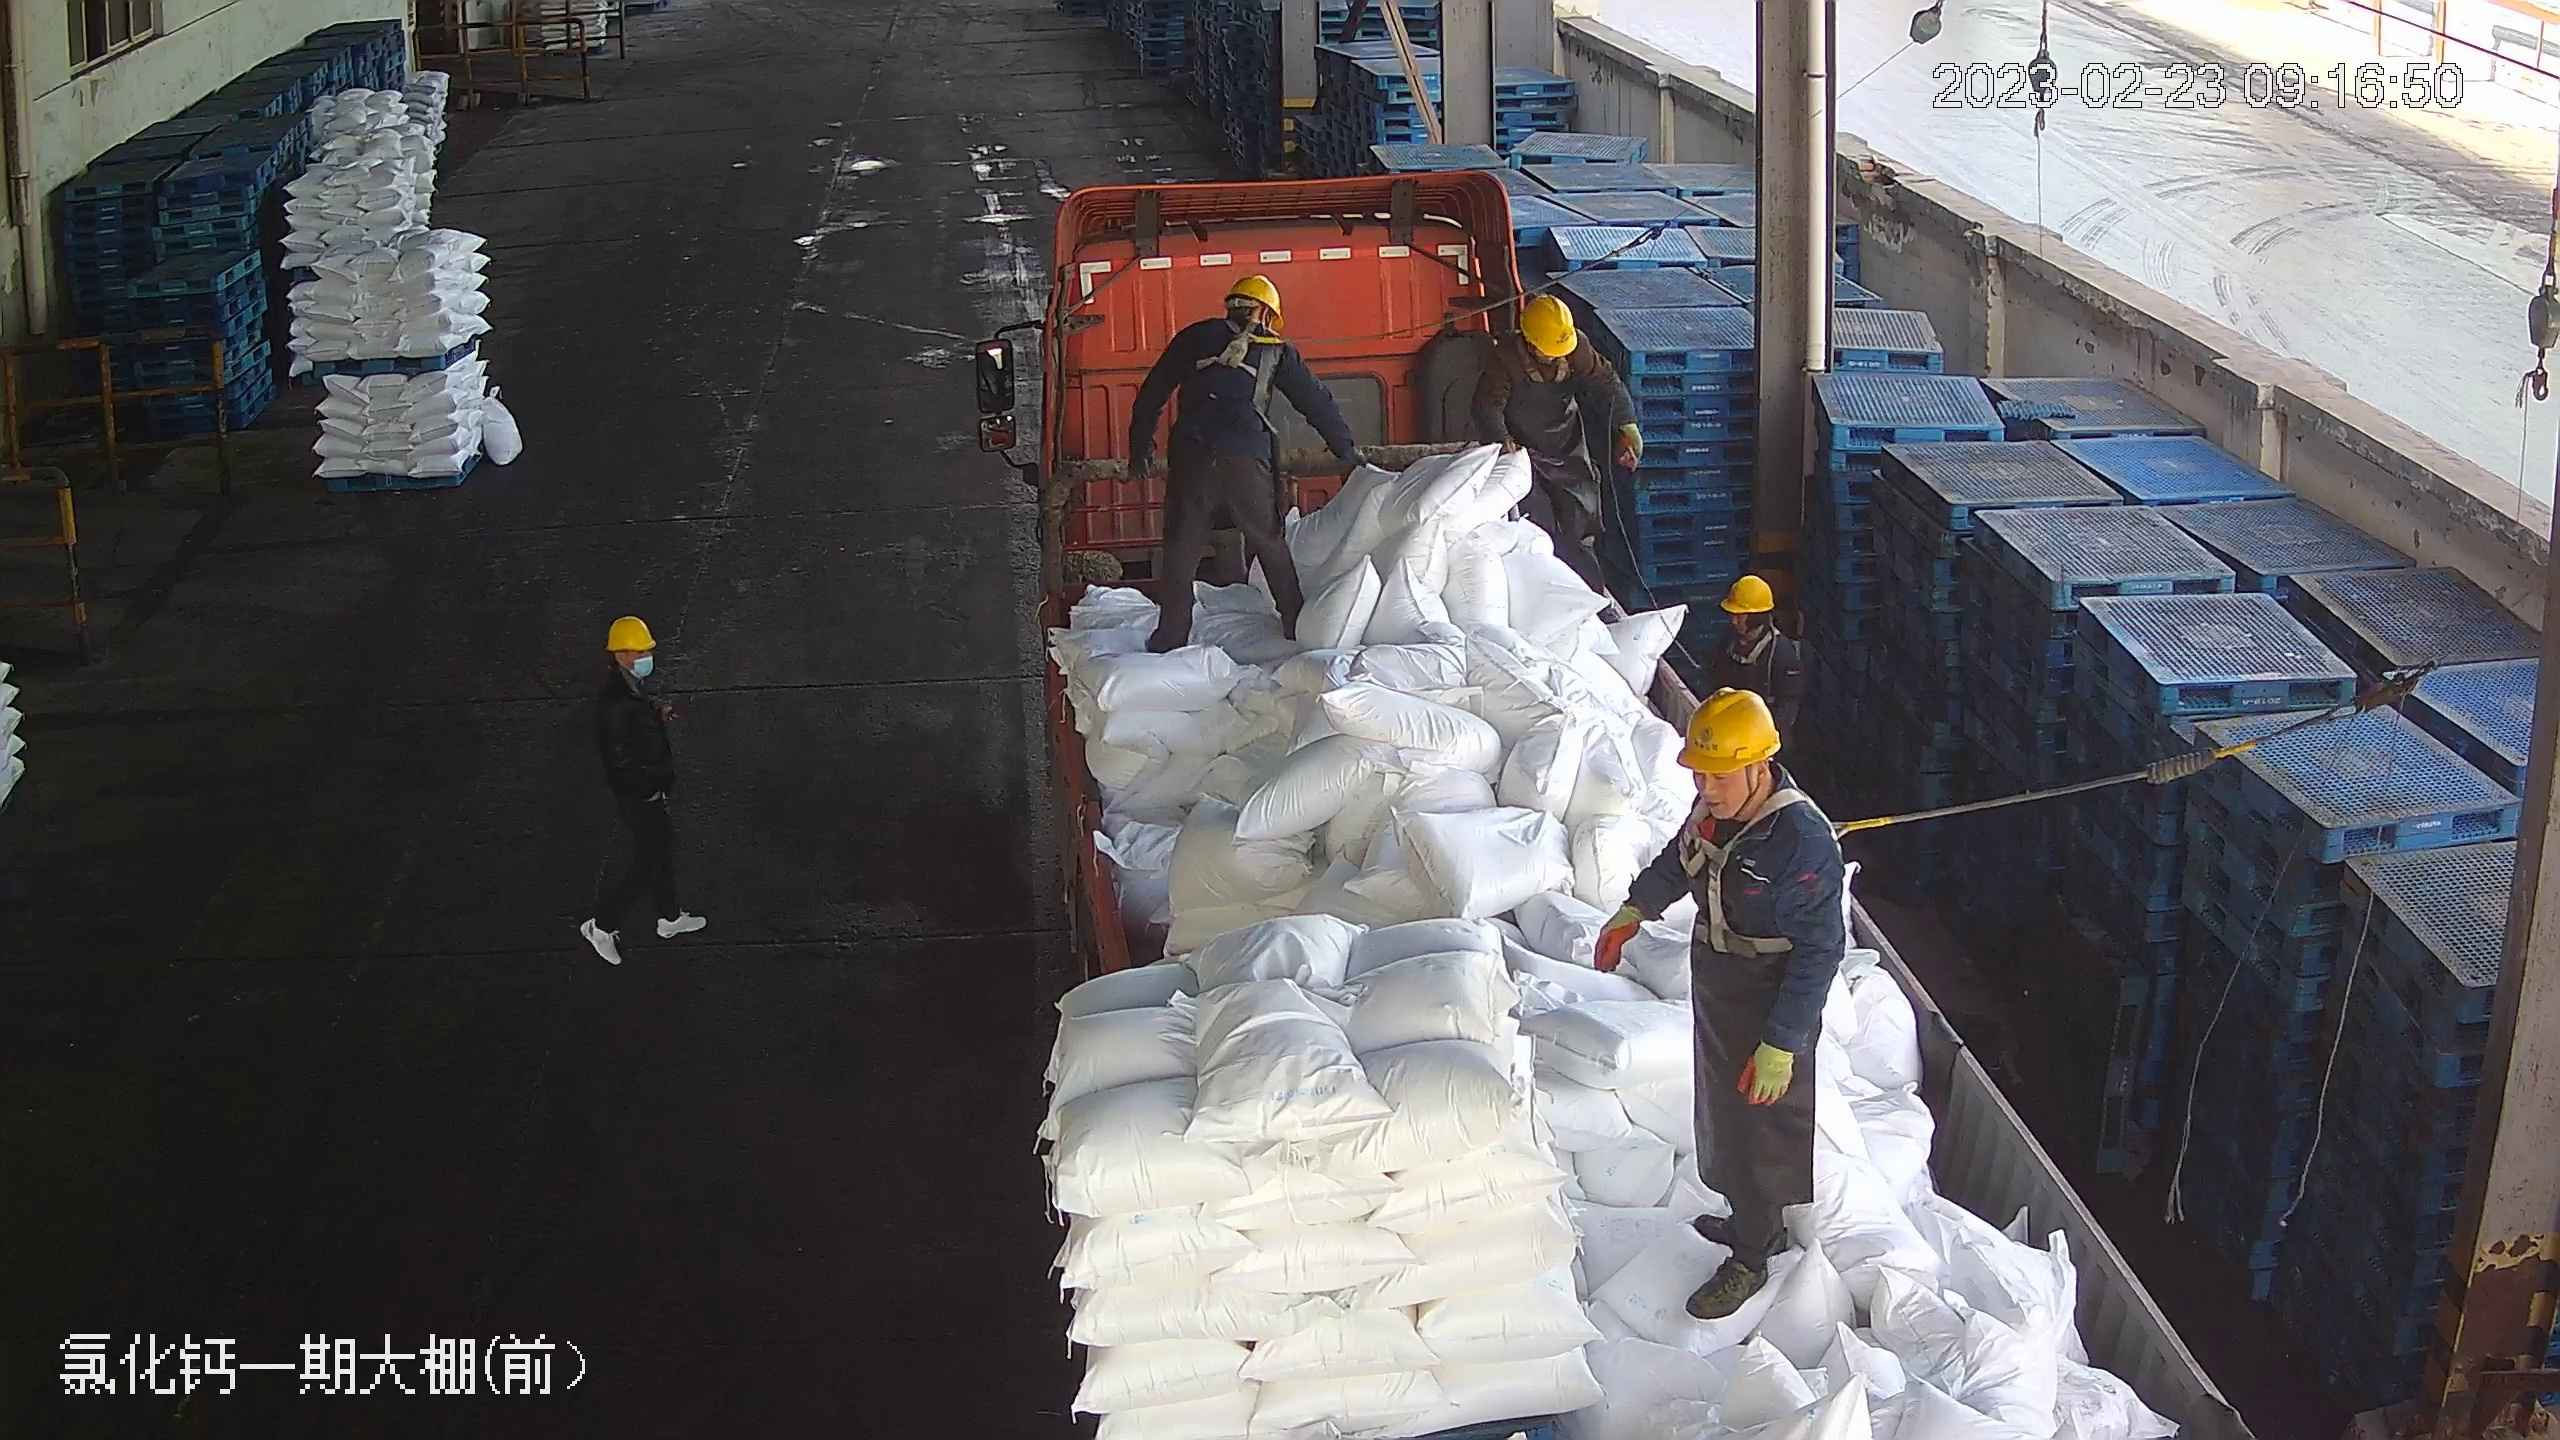belt: (1674, 809, 1807, 945), (1194, 319, 1290, 399), (1510, 339, 1572, 383), (1728, 624, 1785, 667)
head: (1659, 686, 1836, 883), (1174, 270, 1304, 381), (1495, 293, 1607, 398), (1711, 574, 1797, 676), (593, 614, 670, 714), (601, 613, 658, 652)
helmet: (1673, 685, 1782, 771), (1517, 291, 1578, 356), (1225, 269, 1285, 318), (1720, 570, 1779, 614), (604, 613, 658, 651)
people: (1597, 684, 1843, 1326), (1125, 269, 1354, 660), (1470, 286, 1645, 620), (571, 612, 715, 965)
truck: (985, 156, 2255, 1433)
